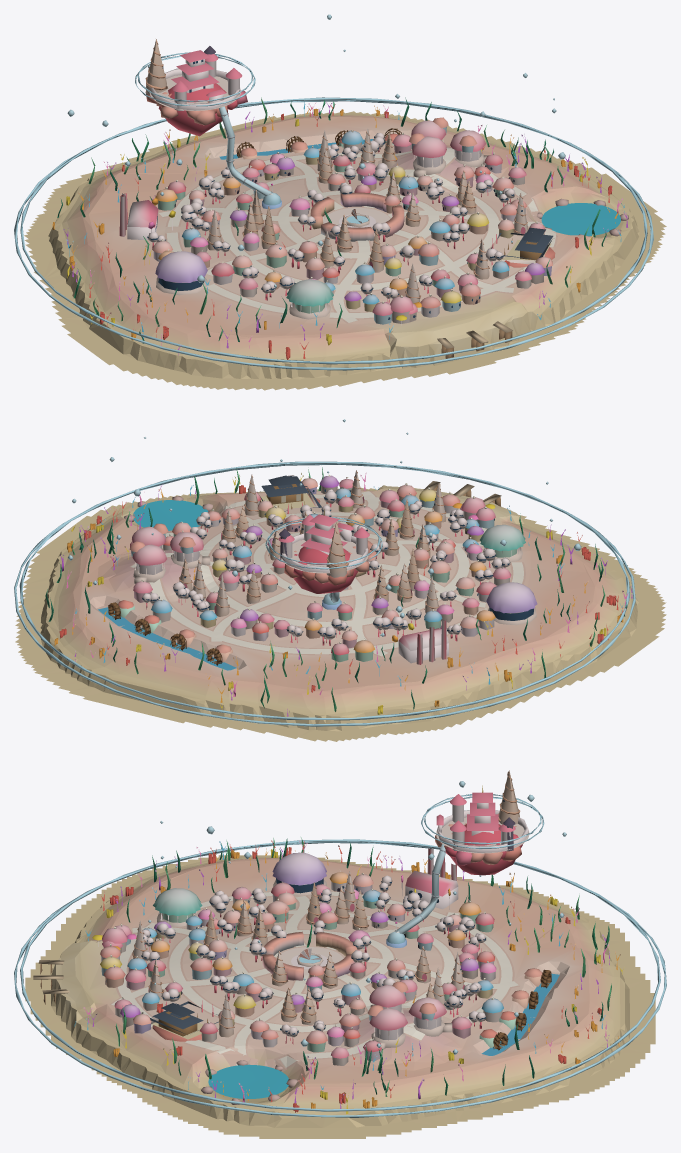
The picture shows the model from 3 angles, top to bottom: view 1: azimuth 30°, elevation 25°; view 2: azimuth 150°, elevation 25°; view 3: azimuth 270°, elevation 25°; orthographic projection. The views are drawn at different scales.
Visible parts, largest first — view 1: BASE, VILLE_2, VILLE_3, VILLE_4; view 2: BASE, VILLE_2, VILLE_3, VILLE_4; view 3: BASE, VILLE_2, VILLE_3, VILLE_4.
Part boxes in pixels (left/top/right/bottom): BASE: left=14, top=14, right=666, bottom=390; VILLE_2: left=155, top=128, right=528, bottom=319; VILLE_3: left=119, top=117, right=552, bottom=311; VILLE_4: left=491, top=227, right=555, bottom=267; BASE: left=14, top=419, right=666, bottom=741; VILLE_2: left=162, top=470, right=537, bottom=642; VILLE_3: left=108, top=474, right=511, bottom=665; VILLE_4: left=257, top=475, right=321, bottom=513; BASE: left=14, top=770, right=666, bottom=1138; VILLE_2: left=127, top=852, right=494, bottom=1052; VILLE_3: left=114, top=848, right=551, bottom=1065; VILLE_4: left=150, top=1000, right=218, bottom=1041.
Bounding box in the file's own units: 66 × 19.68 × 64.25.
